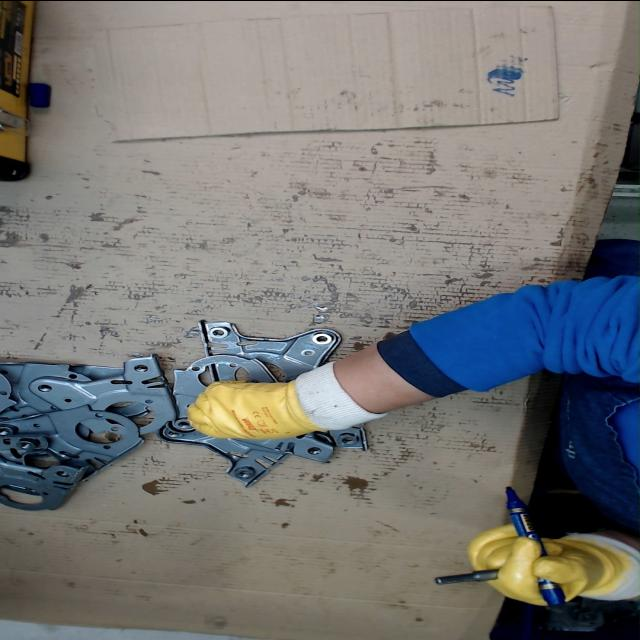hands: (185, 356, 382, 440), (464, 524, 638, 606)
